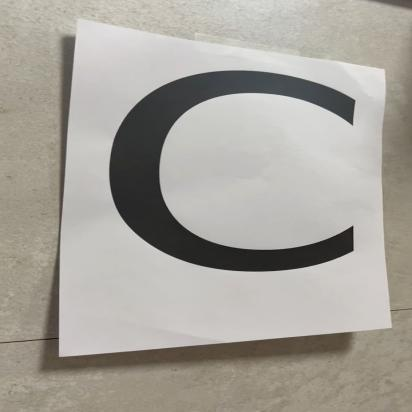seat: (78, 29, 384, 328)
